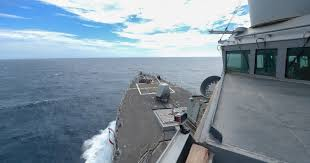tau_muctieu: (114, 61, 310, 163)
